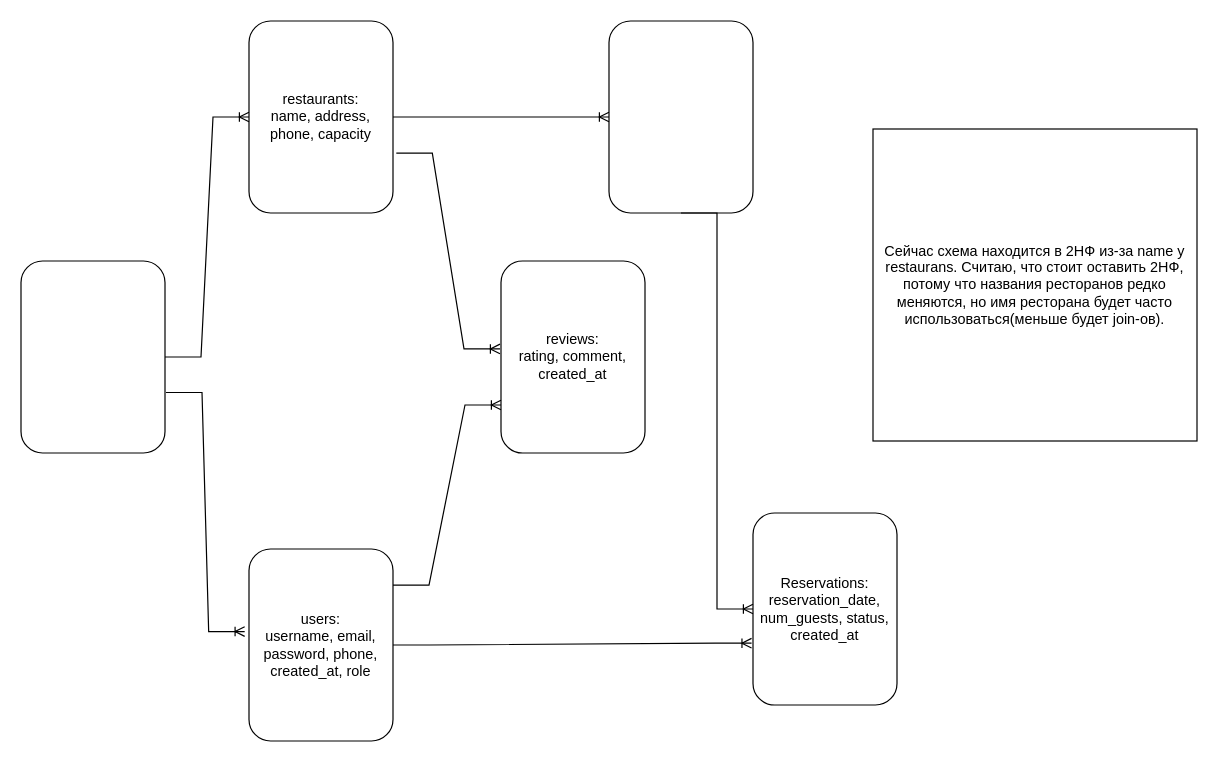
This 1218x762 diagram has some shape labels left out. The centre of each missing label's shape, as x and y in pixels:
"companies: name, email, phone, address" belongs at (92,356).
"tables: table_number, seats, is_available" belongs at (680,116).
